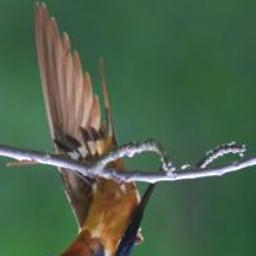Swallow: (30, 1, 165, 256)
